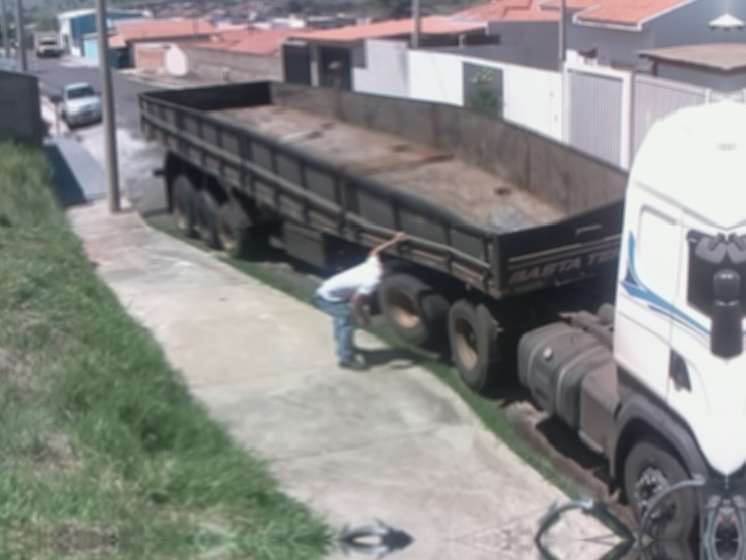person: (310, 228, 411, 374)
